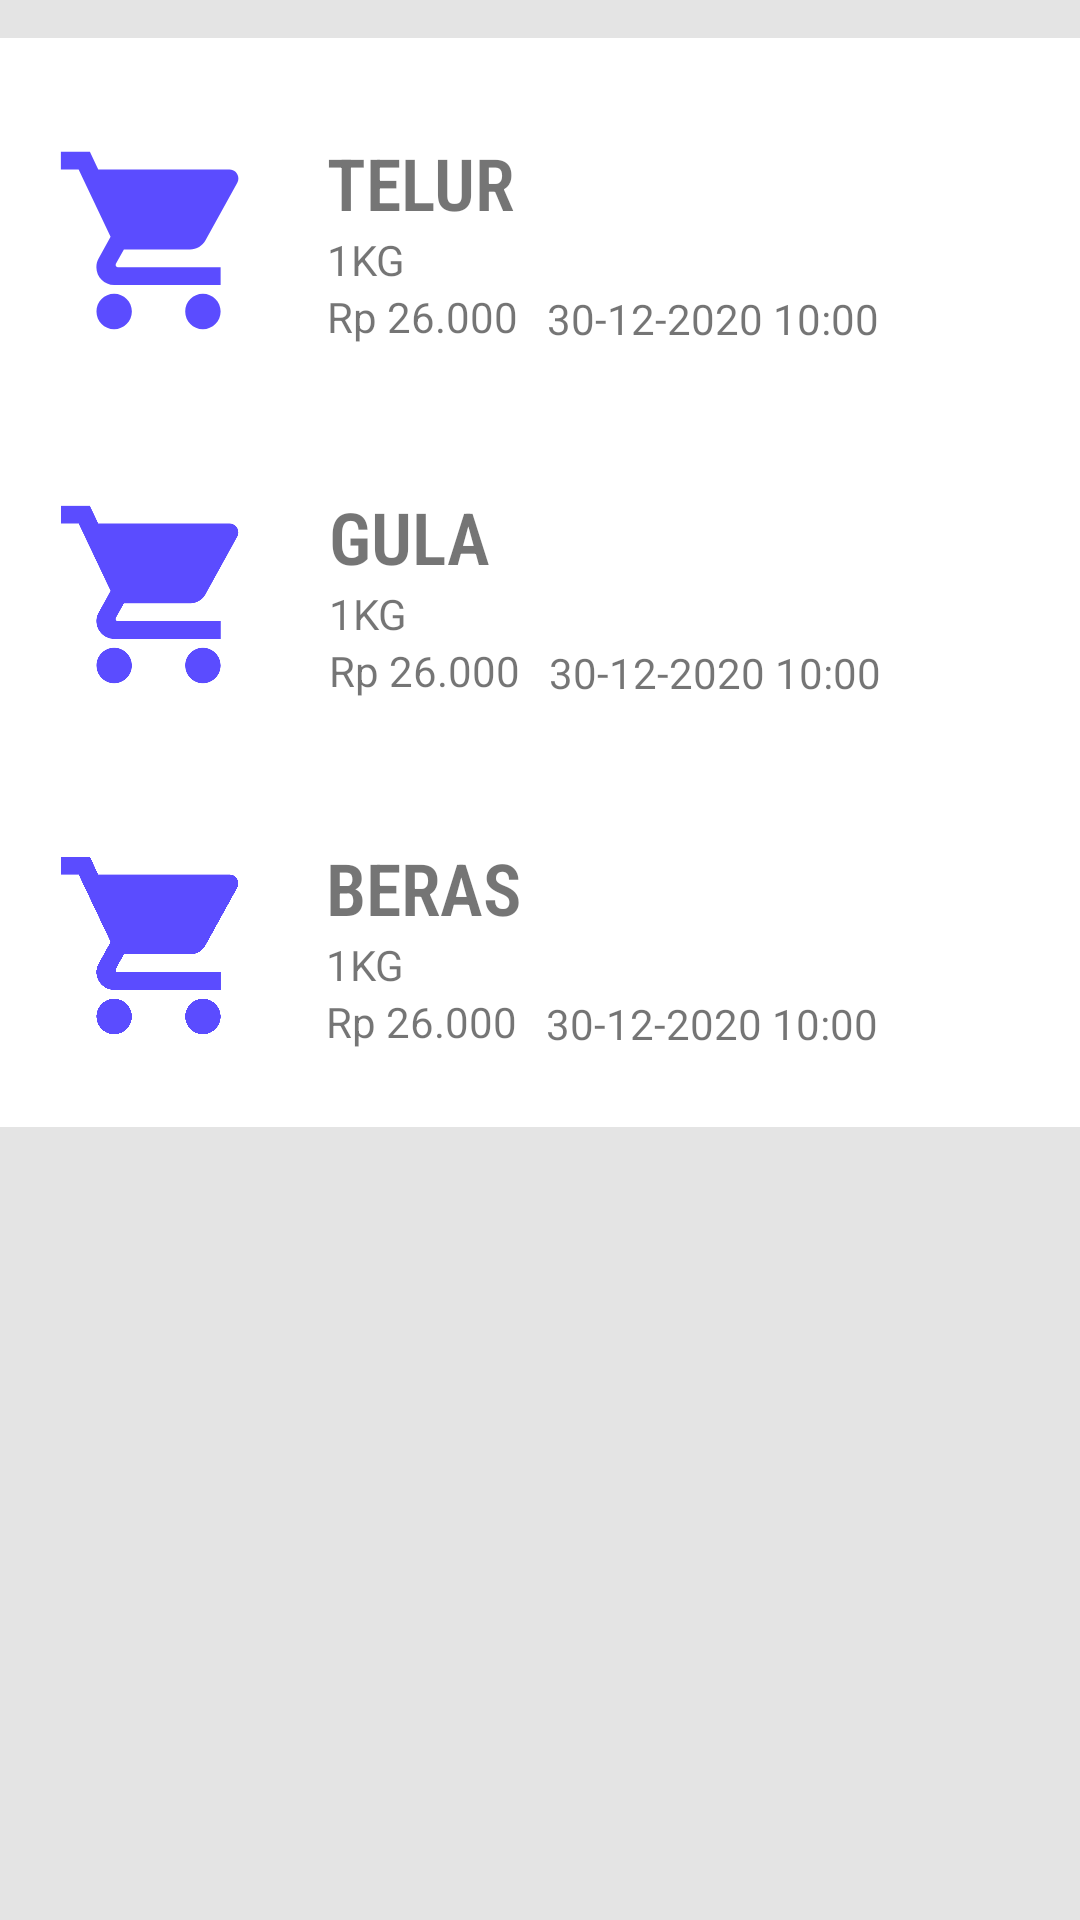

Locate icon controls on the screen. Image size 1080x1920, boxes as (x1, y1, x2, y2).
shopping cart: (61, 151, 239, 330), (61, 506, 239, 683), (61, 857, 238, 1034)
